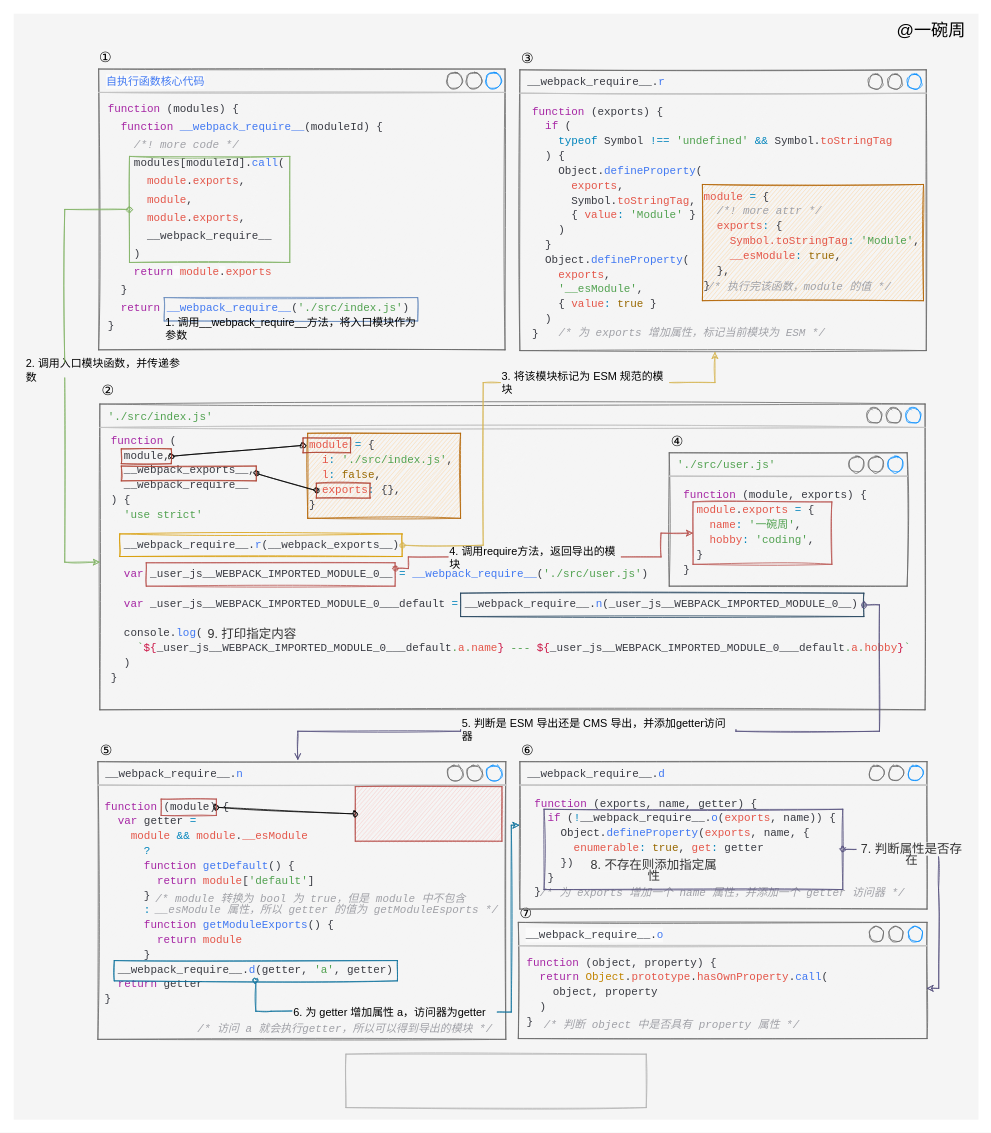
Image size: 991x1133. Some labels were removed from this diagram. The centre of each missing label's shape, as x and y in pixels:
"{ name : '一碗周' , hobby : 'coding' }" belongs at point 428,813.
"注：带圆圈的序号表示函数的执行熟顺序 数字. 的序号为代码分析流程" belongs at point 495,1080.
